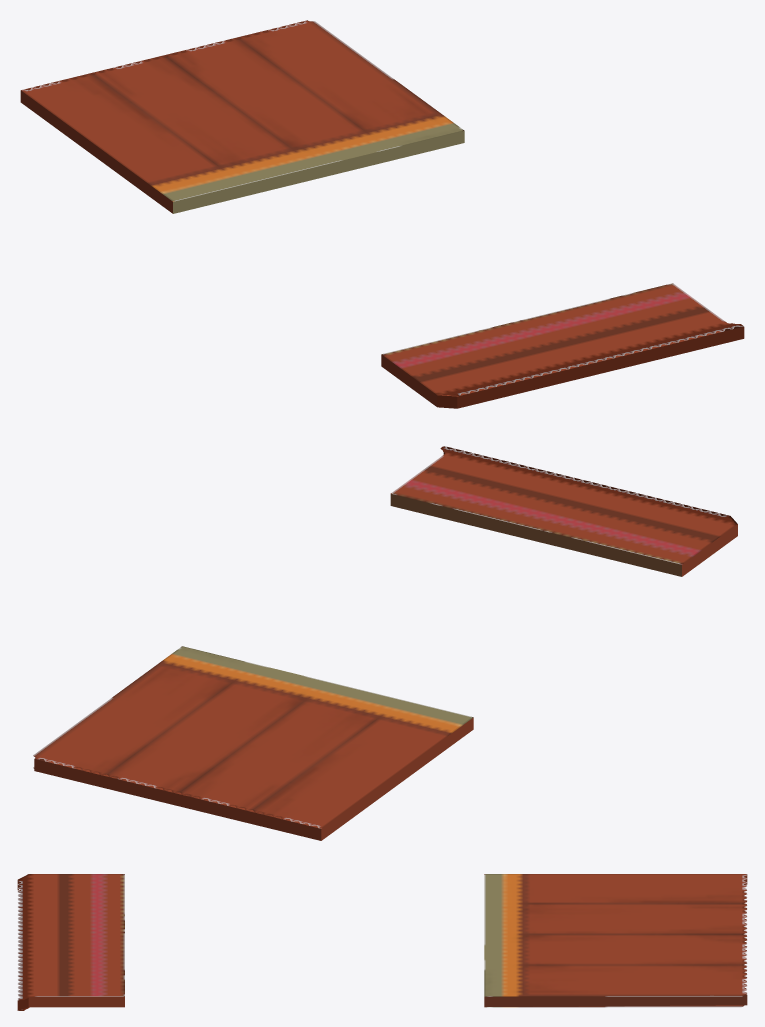
Rendered from pz_native_location_restaurant_spiffos_01_69_frame.obj.
3 renders of one model, top to bottom at view 1: azimuth 30°, elevation 25°; view 2: azimuth 150°, elevation 25°; view 3: azimuth 270°, elevation 25°, orthographic. The views are drawn at different scales.
Parts seen in each view (by area): view 1: pz_native_location_restaurant_spiffos_01_69_frame; view 2: pz_native_location_restaurant_spiffos_01_69_frame; view 3: pz_native_location_restaurant_spiffos_01_69_frame.
Boxes of the visible parts, bbox=[...] form: pz_native_location_restaurant_spiffos_01_69_frame: bbox=[20, 20, 744, 408]; pz_native_location_restaurant_spiffos_01_69_frame: bbox=[33, 446, 737, 840]; pz_native_location_restaurant_spiffos_01_69_frame: bbox=[17, 874, 747, 1010].
Bounding box in the file's own units: 1.06 × 0.04 × 2.54.
Materials: 1 (1 with a texture image).
